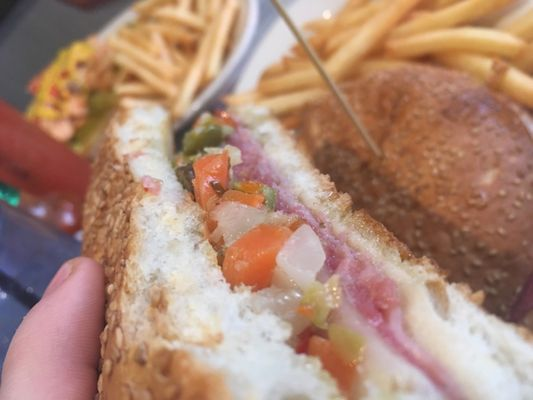pizza: (0, 256, 106, 400)
